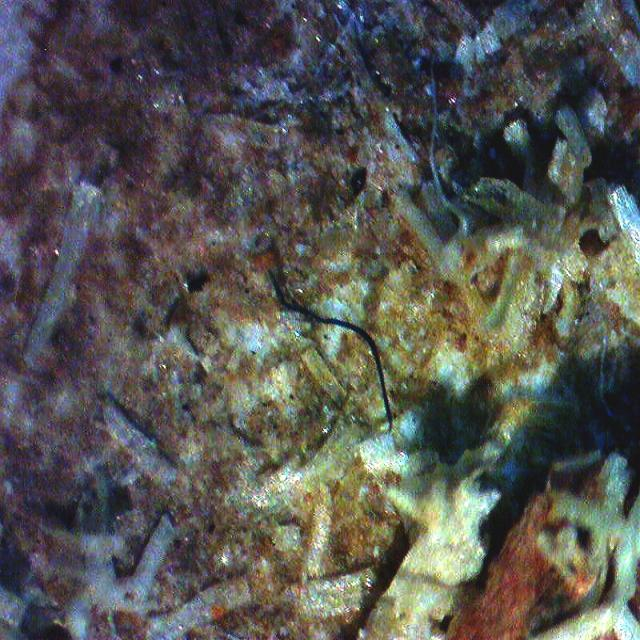microplastic: (269, 271, 393, 426)
